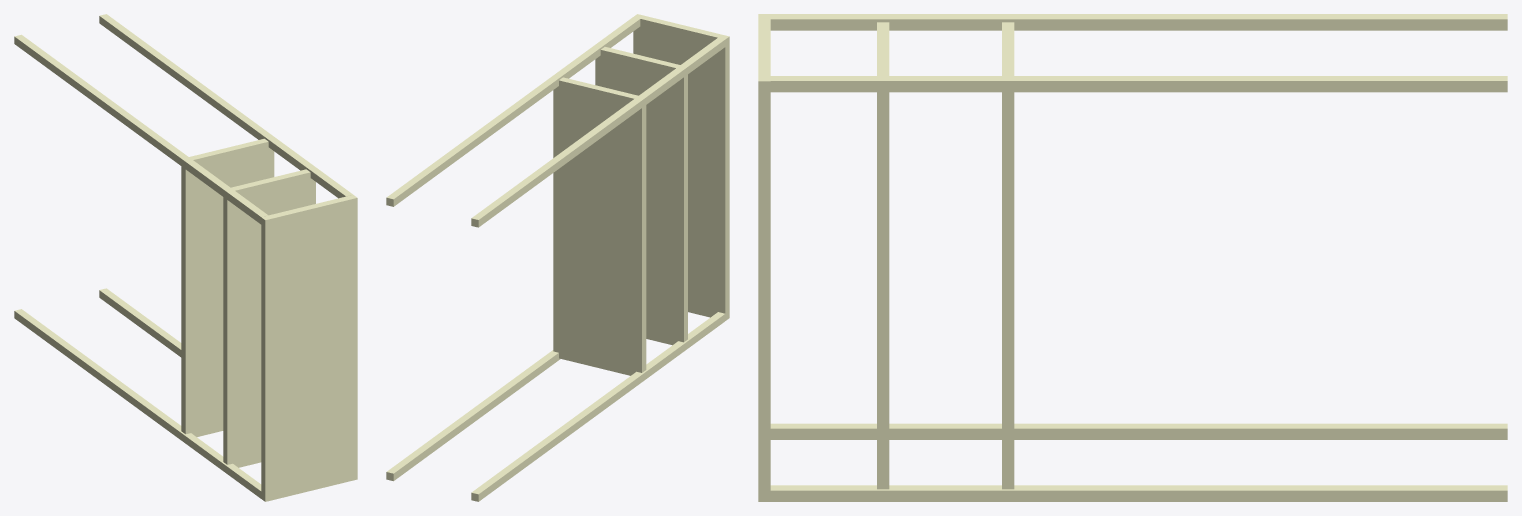
The model's file is nil_link_mesh.dae.
3 renders of one model, left to right at view 1: azimuth 30°, elevation 25°; view 2: azimuth 150°, elevation 25°; view 3: azimuth 270°, elevation 25°, orthographic. The views are drawn at different scales.
Visible parts, largest first — view 1: nil_link (×7); view 2: nil_link (×7); view 3: nil_link (×7).
Boxes of the visible parts, x1,y1,x2,y2 form: nil_link (×7): [14, 14, 357, 501]; nil_link (×7): [386, 14, 729, 501]; nil_link (×7): [758, 14, 1507, 501].
Size of the model in its own units: 0.445 by 1.3 by 2.1.
